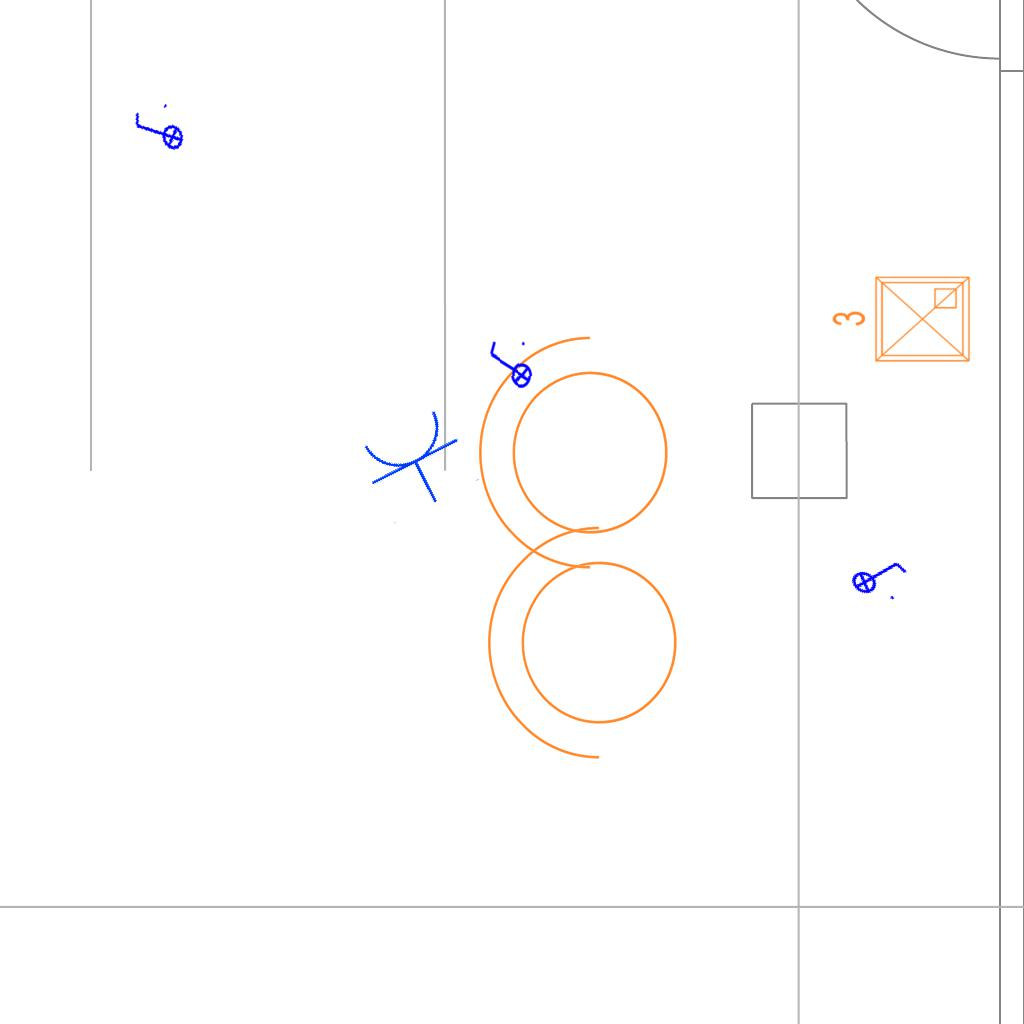Ausschalter_beleuchtet: (842, 540, 914, 610), (127, 99, 189, 165), (483, 336, 535, 396)
Einbaudownlights_LED_Konferenzraeume: (827, 269, 977, 373)
Scheinwerfer_fuer_Alarmbeleuchtung: (477, 517, 702, 781), (468, 327, 693, 591)
Schukosteckdose_einfach: (352, 402, 482, 525)
